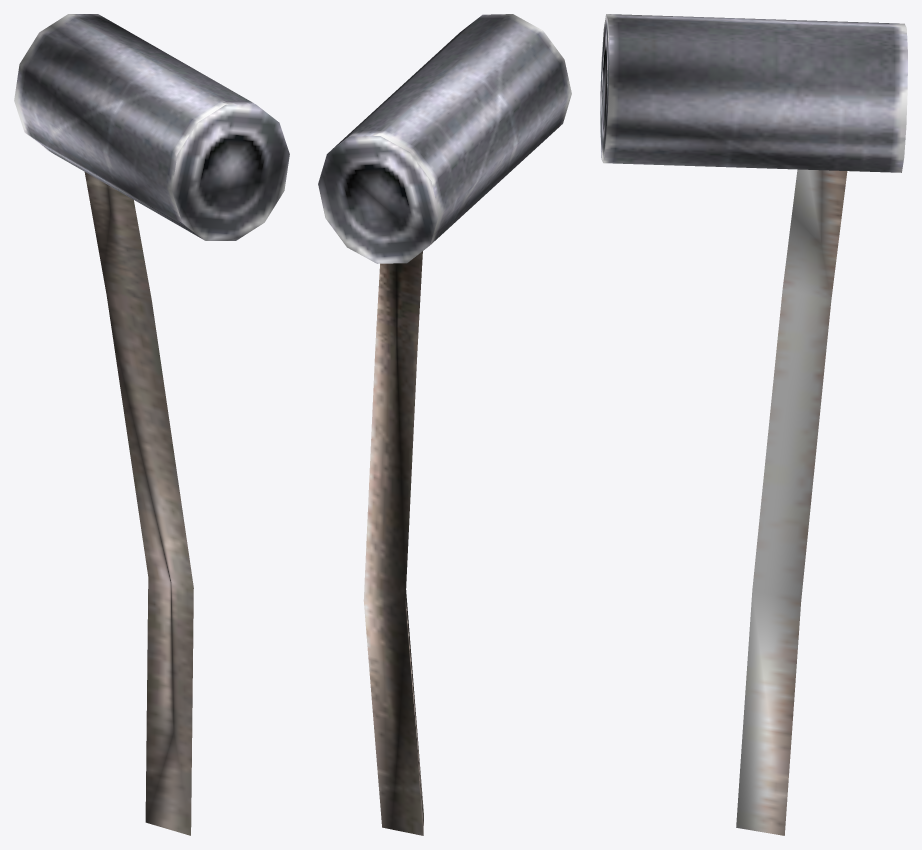
Rendered from Robot01.RightKnee4.fbx.
The picture shows the model from 3 angles, left to right: view 1: azimuth 30°, elevation 25°; view 2: azimuth 150°, elevation 25°; view 3: azimuth 270°, elevation 25°; orthographic projection. The views are drawn at different scales.
Parts seen in each view (by area): view 1: mesh_1209.001; view 2: mesh_1209.001; view 3: mesh_1209.001.
Part boxes in pixels (x1,y1,x2,y2): mesh_1209.001: [14, 14, 289, 835]; mesh_1209.001: [318, 14, 571, 835]; mesh_1209.001: [600, 14, 907, 835].
Bounding box in the file's own units: 9.71 × 55.29 × 19.39.
